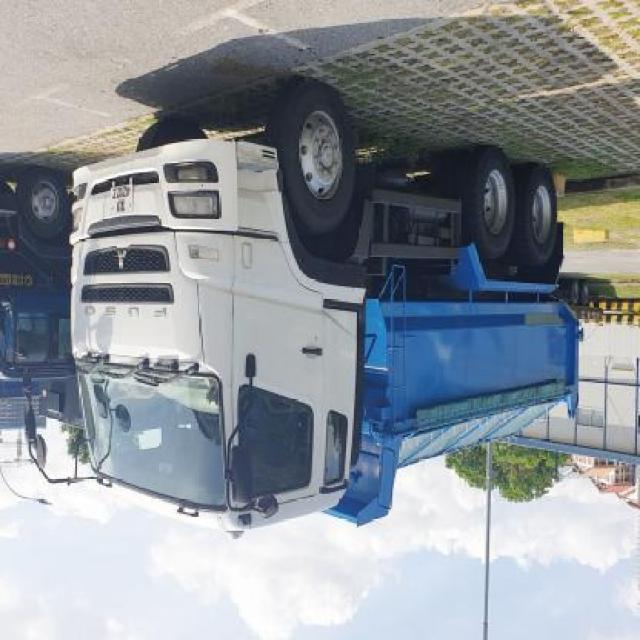truck: (24, 84, 584, 535)
